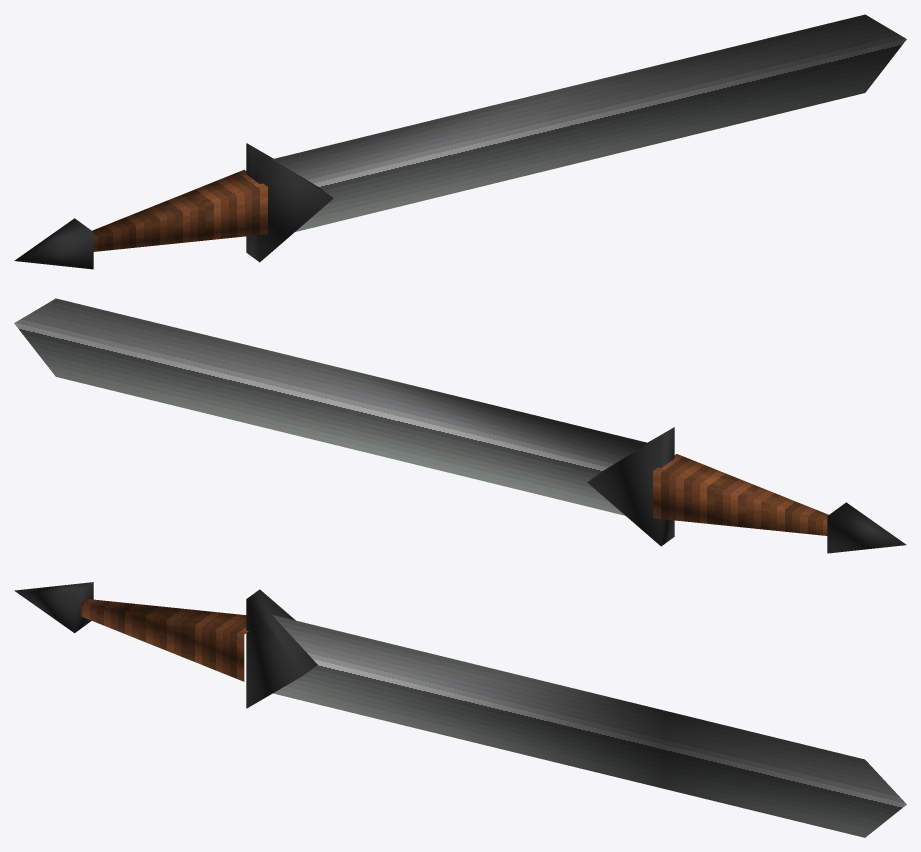
The picture shows the model from 3 angles, top to bottom: view 1: azimuth 30°, elevation 25°; view 2: azimuth 150°, elevation 25°; view 3: azimuth 330°, elevation 25°; orthographic projection.
Parts seen in each view (by area): view 1: it57; view 2: it57; view 3: it57.
Part boxes in pixels (x1,y1,x2,y2): it57: [14, 14, 906, 269]; it57: [14, 298, 906, 553]; it57: [14, 582, 906, 837].
Bounding box in the file's own units: 2.42 × 0.2845 × 0.1481.
Materials: 3 (3 with a texture image).
